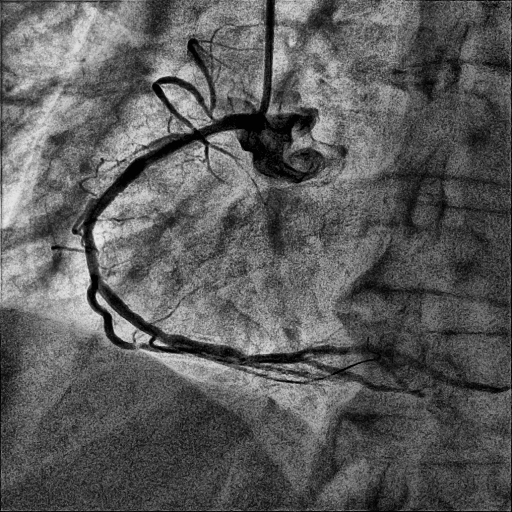pborca: (301, 346, 496, 393)
pda: (300, 358, 426, 396)
rca: (83, 112, 307, 364)
